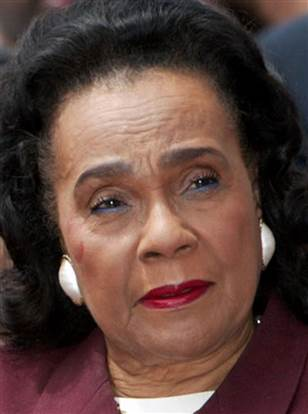stroke: (55, 117, 259, 353)
